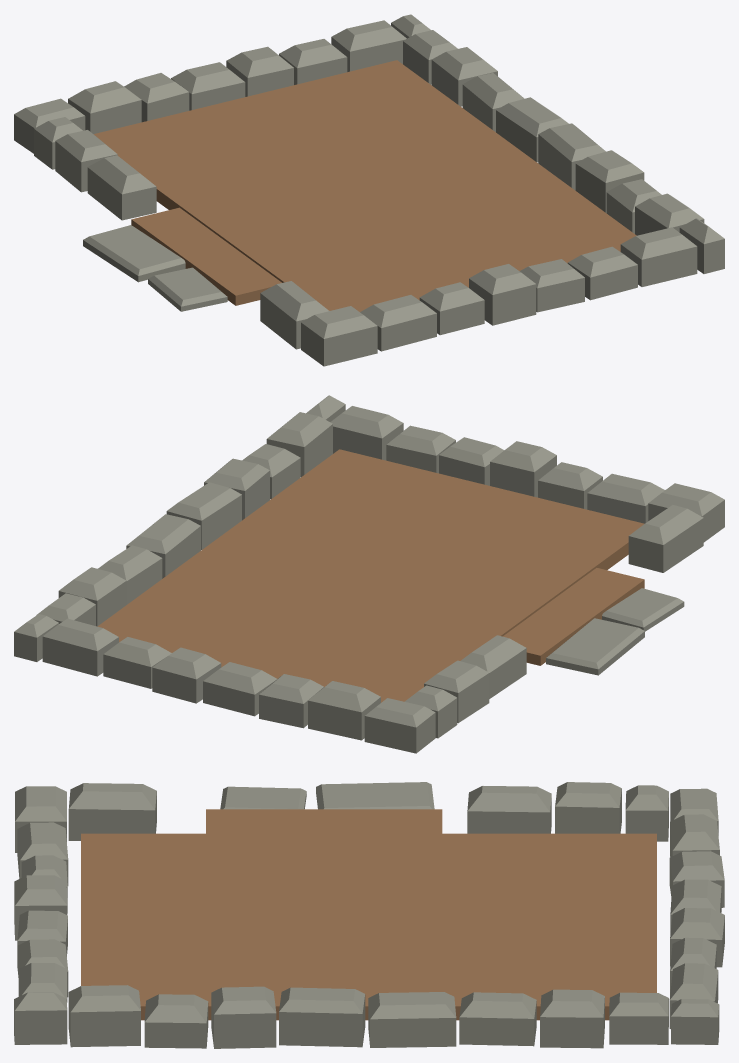
File: foundation.glb
3 views of the same model, one above another, from view 1: azimuth 30°, elevation 25°; view 2: azimuth 150°, elevation 25°; view 3: azimuth 270°, elevation 25° (orthographic). The views are drawn at different scales.
Parts seen in each view (by area): view 1: floor, stone_footing; view 2: floor, stone_footing; view 3: floor, stone_footing.
Part boxes in pixels (left/top/right/bottom): floor: left=94, top=60, right=636, bottom=311; stone_footing: left=14, top=14, right=724, bottom=366; floor: left=97, top=449, right=644, bottom=702; stone_footing: left=14, top=395, right=724, bottom=753; floor: left=81, top=809, right=656, bottom=1020; stone_footing: left=14, top=782, right=724, bottom=1048.
Bounding box in the file's own units: 4.74 × 0.3958 × 5.53.
